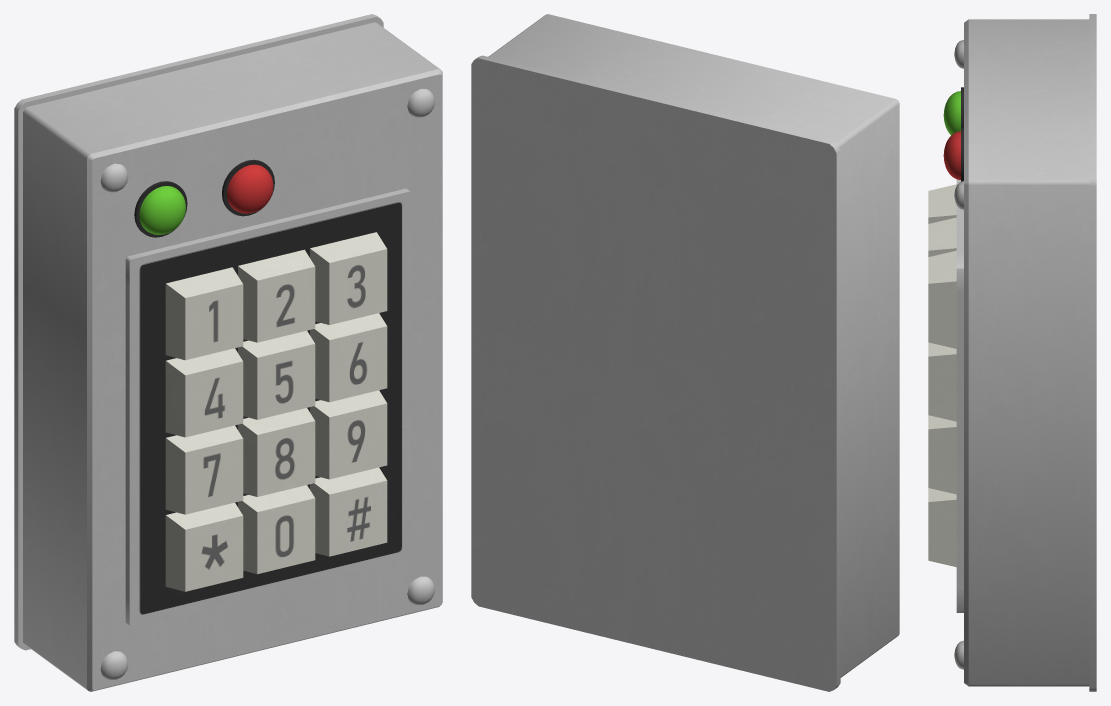
Rendered from KeypadDoorLock.FBX.
3 renders of one model, left to right at view 1: azimuth 30°, elevation 25°; view 2: azimuth 150°, elevation 25°; view 3: azimuth 270°, elevation 25°, orthographic. The views are drawn at different scales.
Parts seen in each view (by area): view 1: KeypadDoorLock; view 2: KeypadDoorLock; view 3: KeypadDoorLock.
Boxes of the visible parts, x1,y1,x2,y2 form: KeypadDoorLock: (14, 14, 442, 691); KeypadDoorLock: (471, 14, 899, 691); KeypadDoorLock: (928, 14, 1096, 691).
Bounding box in the file's own units: 3.64 × 5.21 × 1.54.
